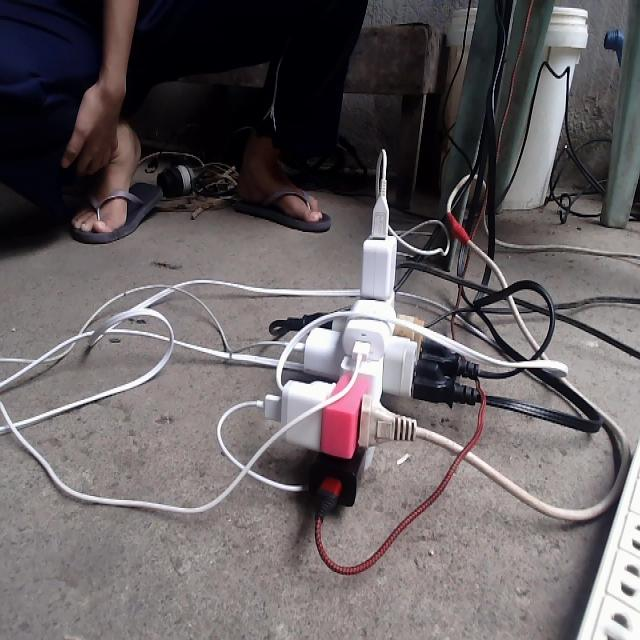-: (265, 236, 428, 497)
